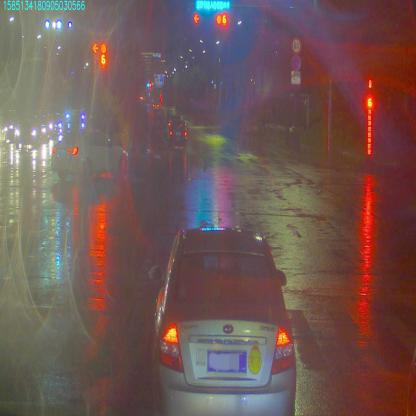traffic-light: (195, 1, 232, 14), (216, 14, 229, 26), (194, 14, 199, 26)
